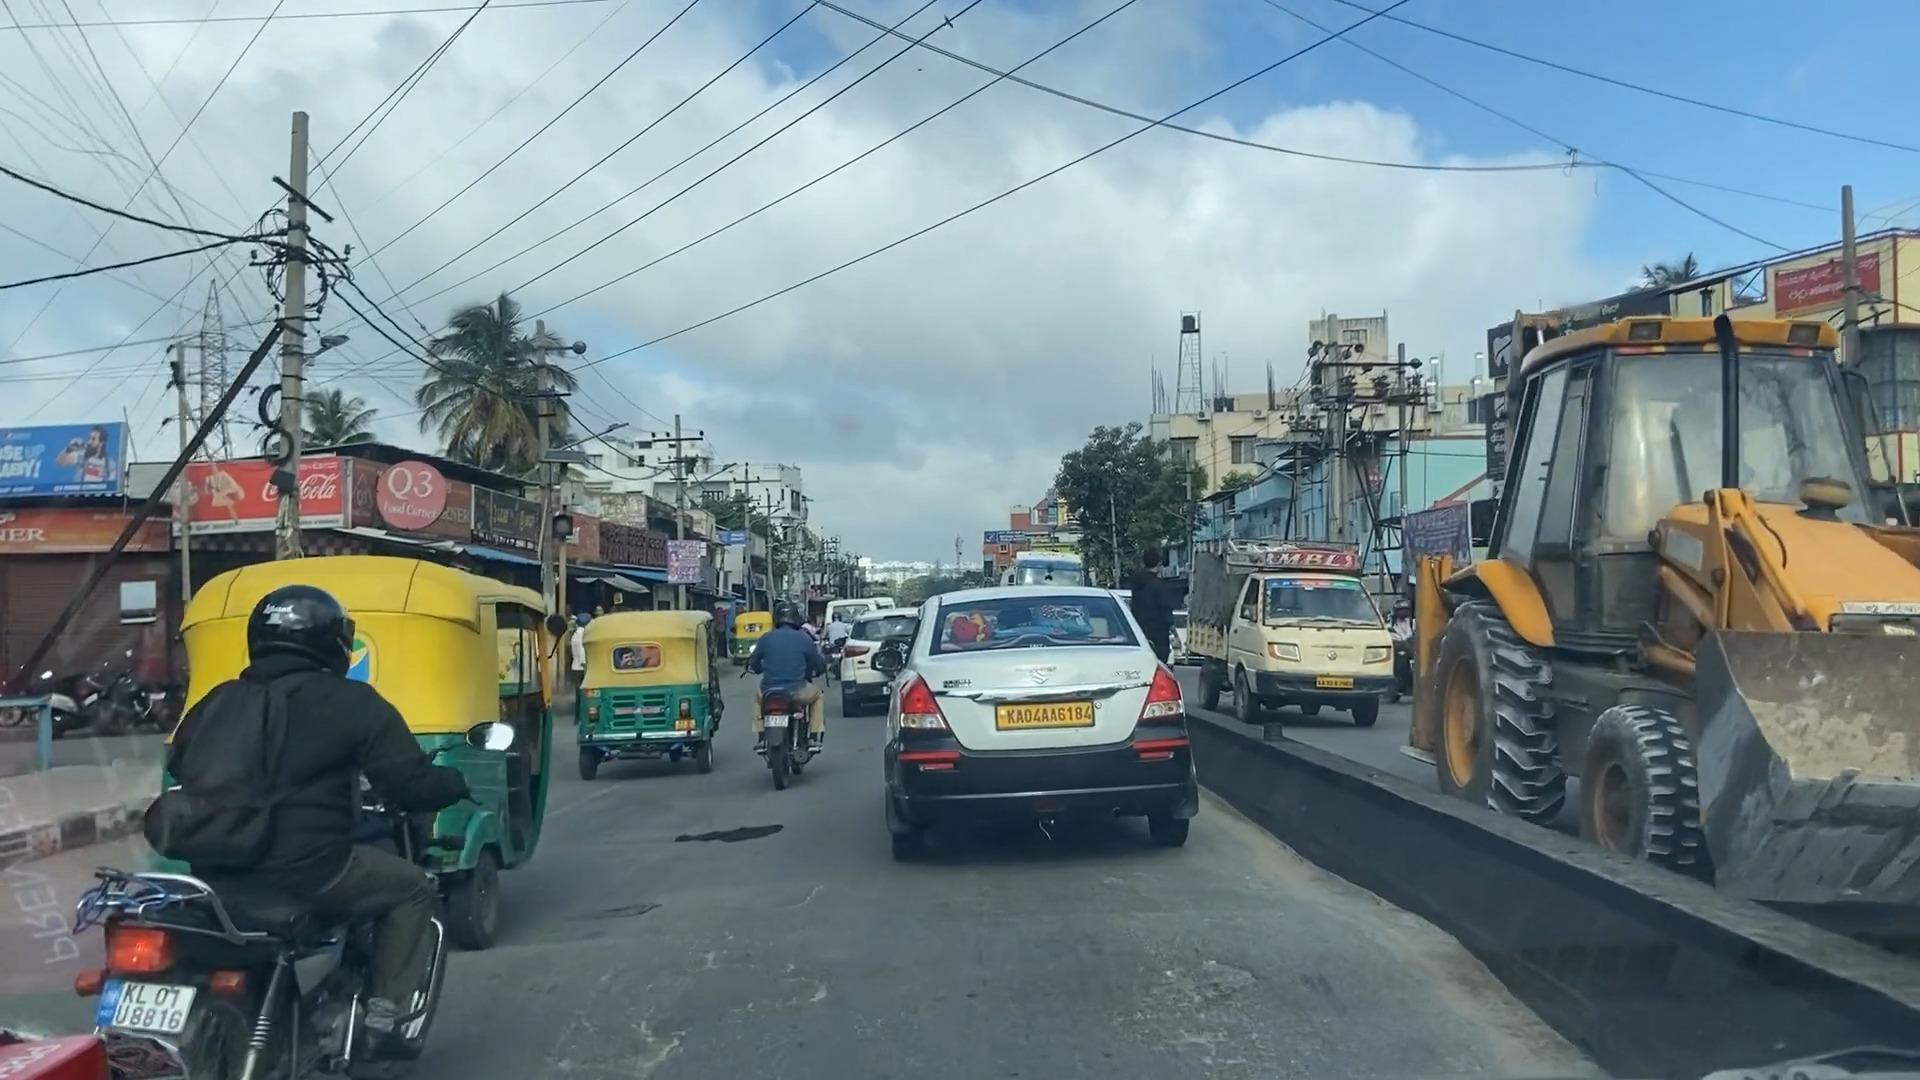LMV: (107, 587, 401, 1076), (895, 587, 1196, 843), (570, 615, 721, 762)
RoadDamages: (644, 891, 752, 988), (592, 1000, 707, 1080), (799, 877, 876, 952)
UnsurfacedRoad: (1083, 874, 1316, 1080)
